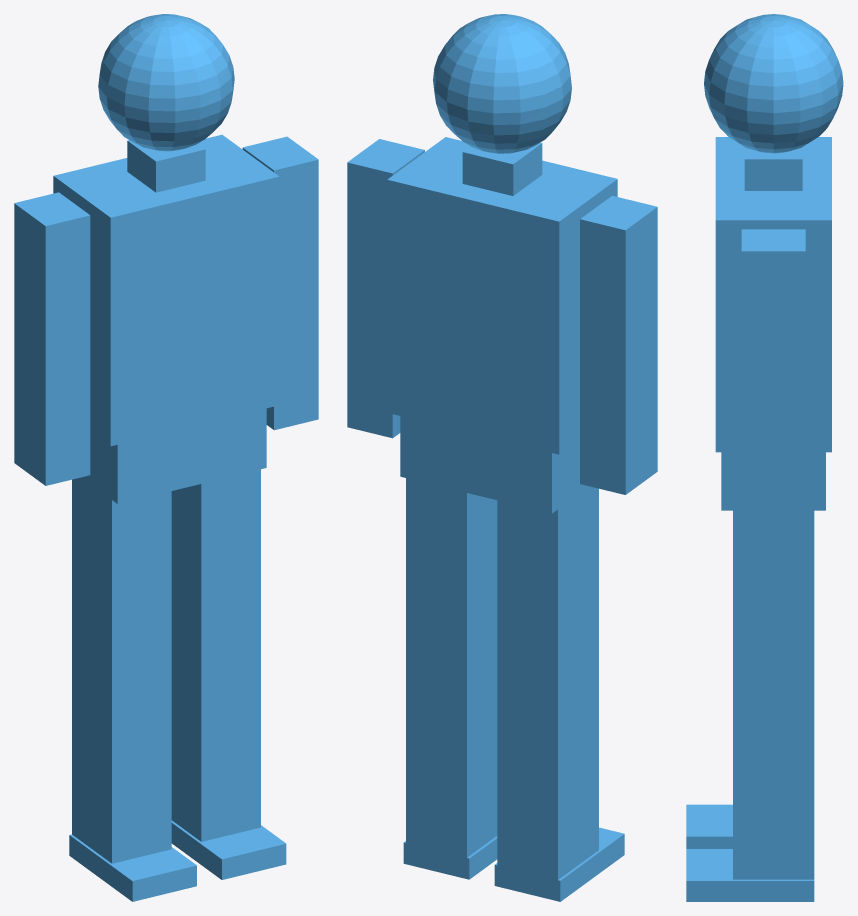
The model's file is light_blue_human.obj.
The picture shows the model from 3 angles, left to right: view 1: azimuth 30°, elevation 25°; view 2: azimuth 150°, elevation 25°; view 3: azimuth 270°, elevation 25°; orthographic projection.
Size of the model in its own units: 0.55 by 1.6 by 0.27.
